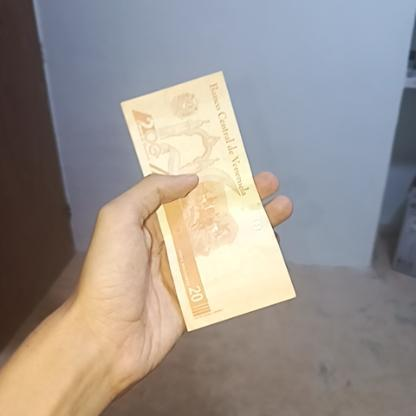twenty-back-vef: (119, 70, 296, 334)
